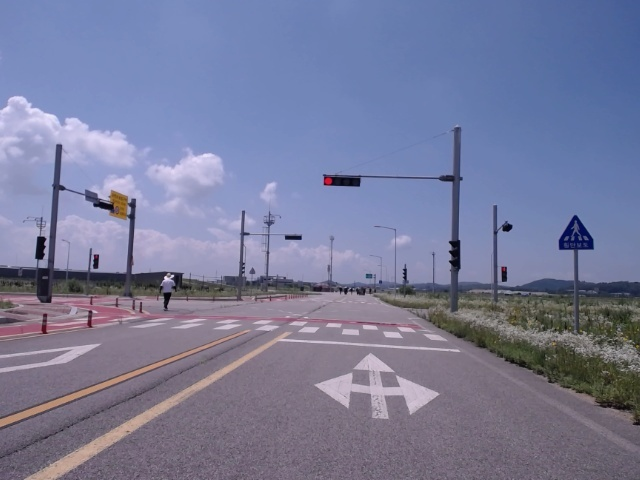red_4: (324, 177, 360, 187)
